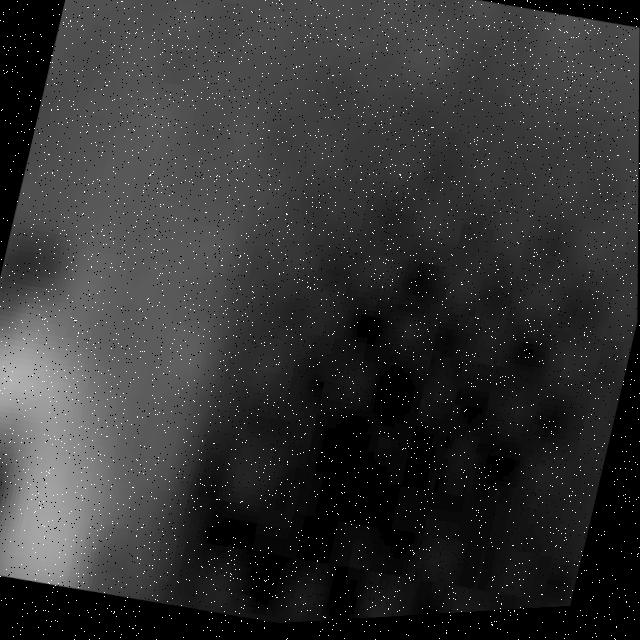person: (1, 208, 194, 602), (1, 149, 59, 567)
